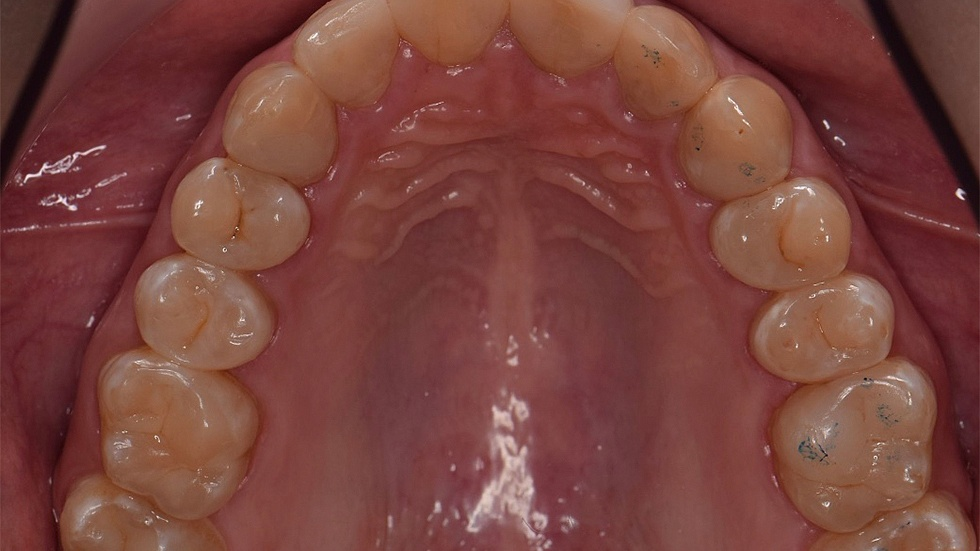ULCI_healthy: (510, 2, 623, 76)
UR1BC_decay: (161, 167, 320, 273)
UR1BC_healthy: (713, 194, 850, 290)
UR1M_decay: (786, 379, 935, 513)
UR1M_healthy: (110, 361, 255, 509)
UR2BC_healthy: (137, 267, 275, 364), (750, 297, 898, 364)
URCI_healthy: (396, 1, 504, 67)
URC_healthy: (693, 82, 790, 196), (228, 80, 335, 182)
URLI_decay: (619, 18, 704, 118)
URLI_healthy: (298, 7, 395, 97)
